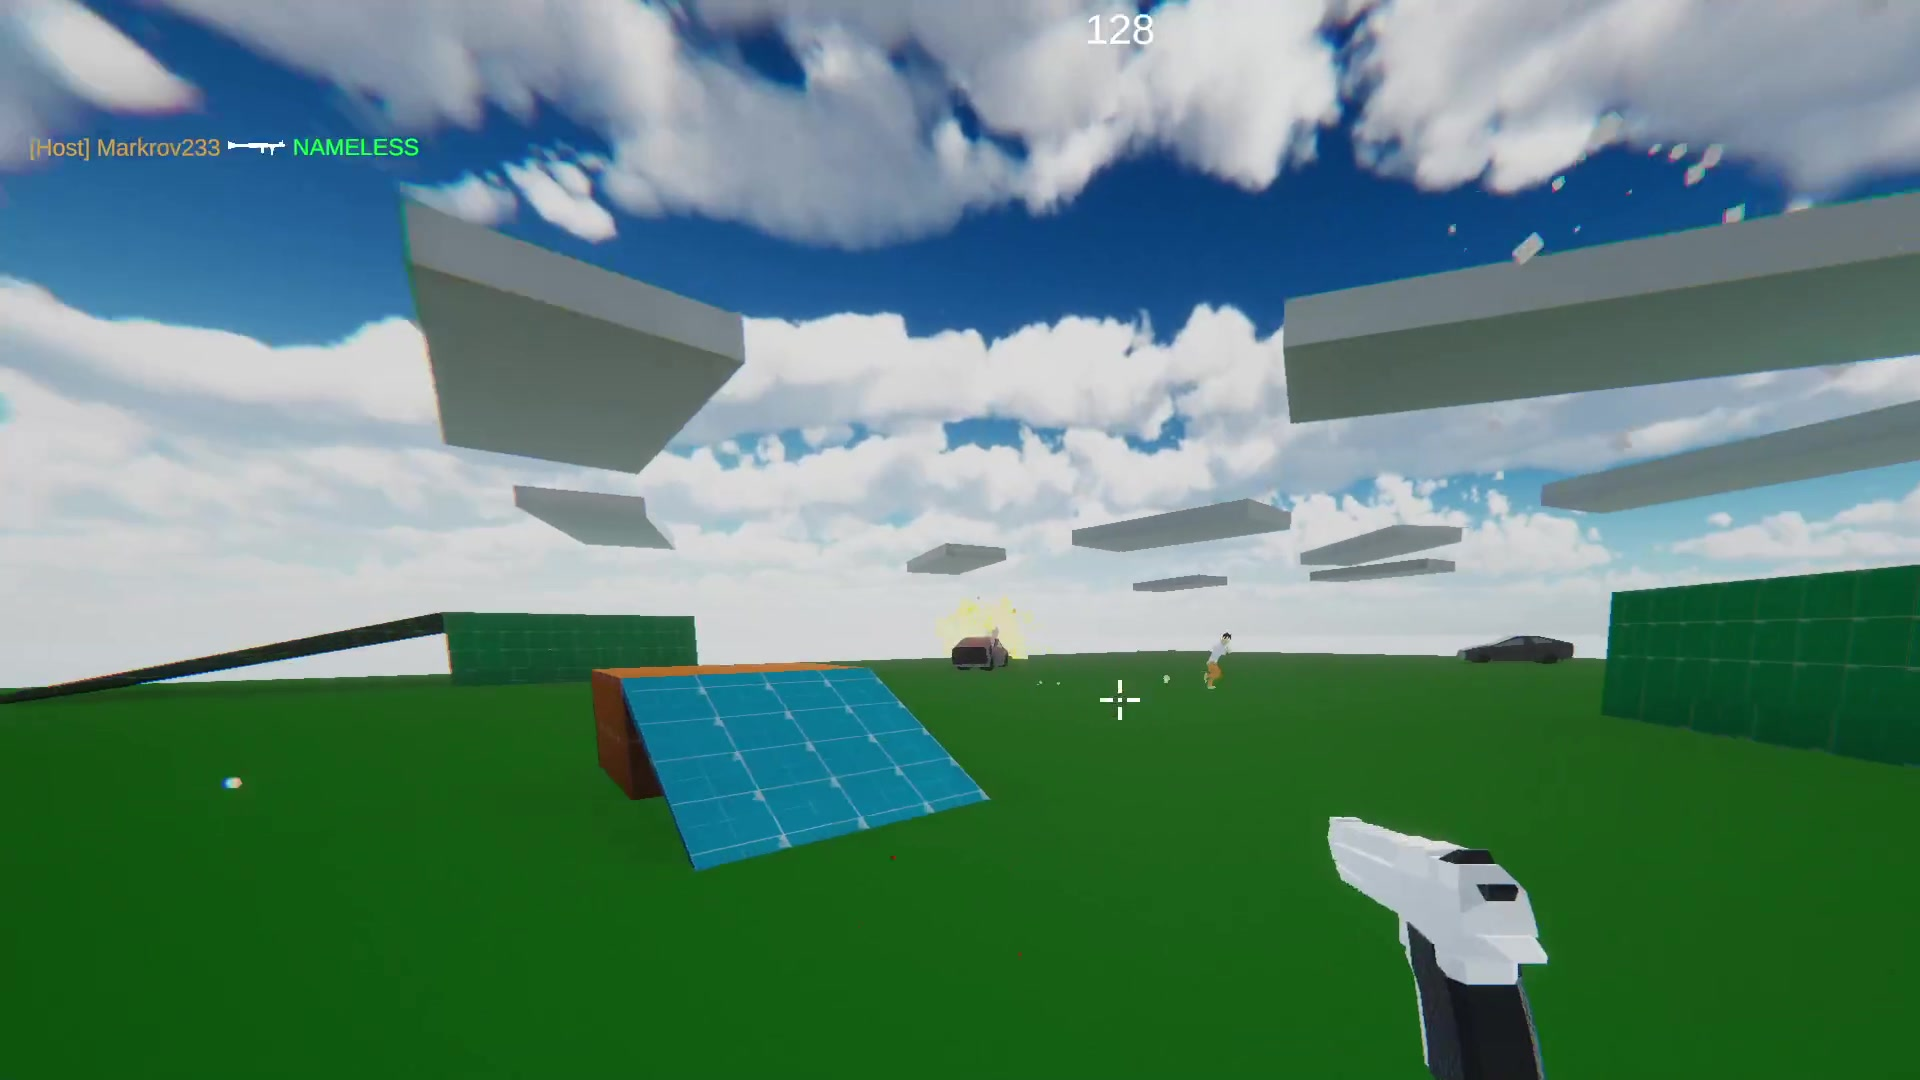human: (1207, 634, 1231, 696)
